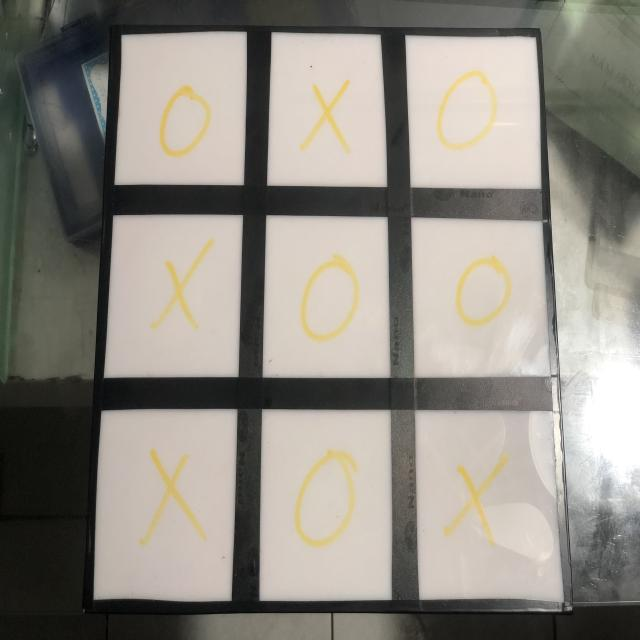o: (287, 443, 359, 559), (430, 59, 504, 161), (296, 253, 365, 350), (450, 247, 520, 333), (157, 84, 215, 161)
table: (82, 23, 577, 616)
x: (441, 451, 518, 554), (143, 445, 207, 550), (155, 233, 213, 339), (297, 75, 357, 164)
